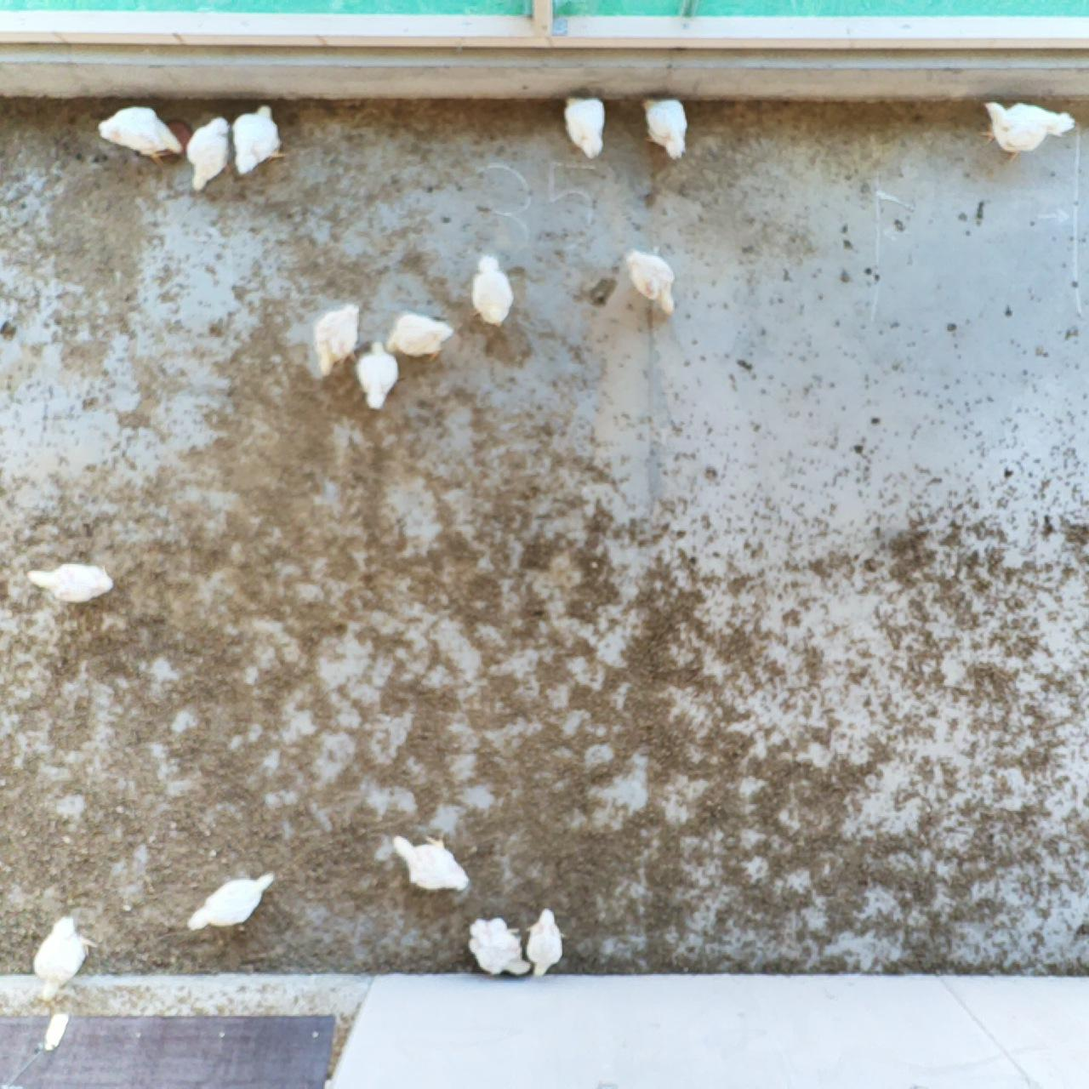chicken: (975, 96, 1079, 167), (184, 868, 281, 934), (30, 913, 99, 1003), (96, 102, 185, 170), (391, 830, 477, 895), (234, 102, 289, 178), (383, 308, 456, 365), (467, 915, 532, 979), (310, 301, 364, 378), (185, 113, 235, 194), (624, 247, 680, 319), (25, 561, 116, 605), (467, 253, 517, 330), (352, 338, 401, 411), (637, 93, 689, 161), (561, 91, 610, 161), (525, 906, 571, 978)
